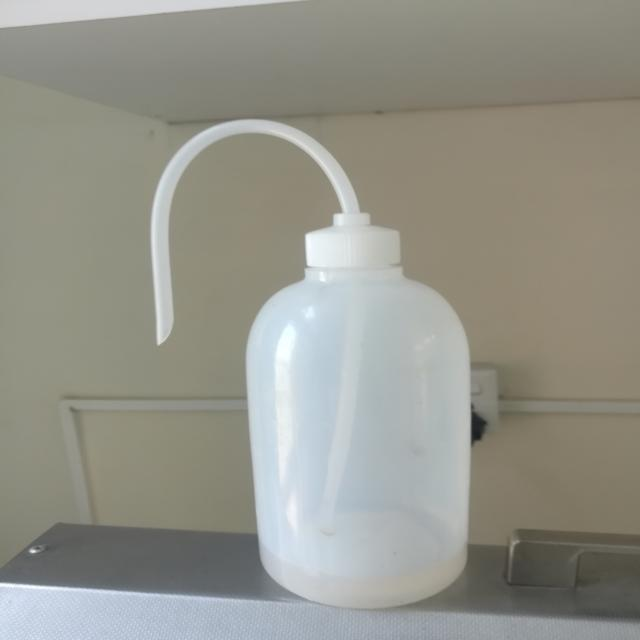Wash_Bottle: (93, 91, 526, 626)
